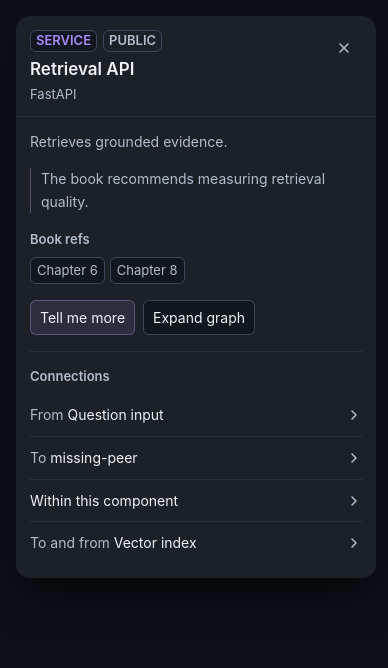
Test: graph detail controls › groups both directions without losing parallel exchanges, self-loops or unnamed peers
Click the heading "To and from Vector index": (196, 543) left=30, top=534, right=362, bottom=551
(page scrolled)
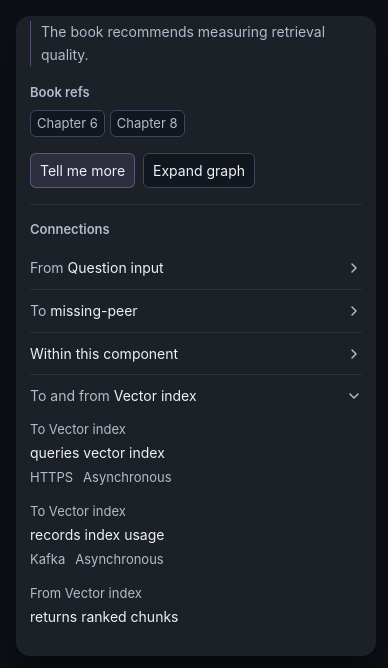
Result: the text "queries vector index" is shown at left=30, top=444, right=165, bottom=461
Result: the text "returns ranked chunks" is shown at left=30, top=608, right=178, bottom=625
Result: the text "records index usage" is shown at left=30, top=526, right=164, bottom=543
